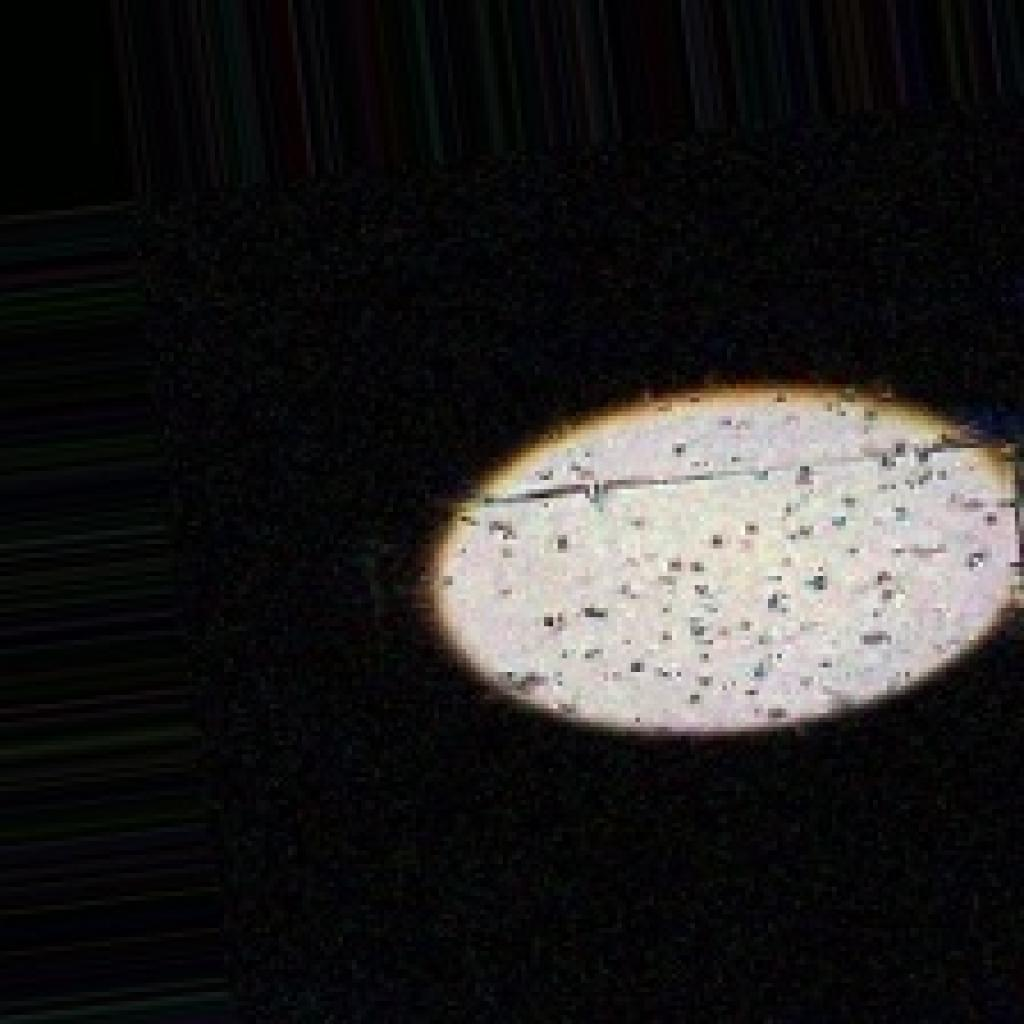Yeast: (222, 252, 1024, 762)
